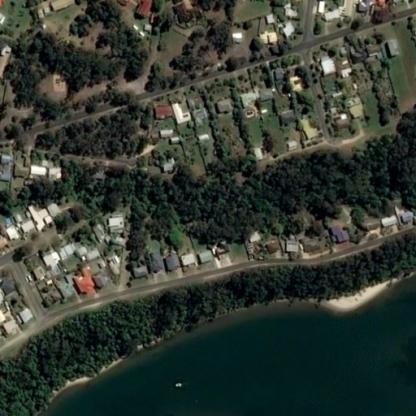ship: (167, 376, 187, 392)
